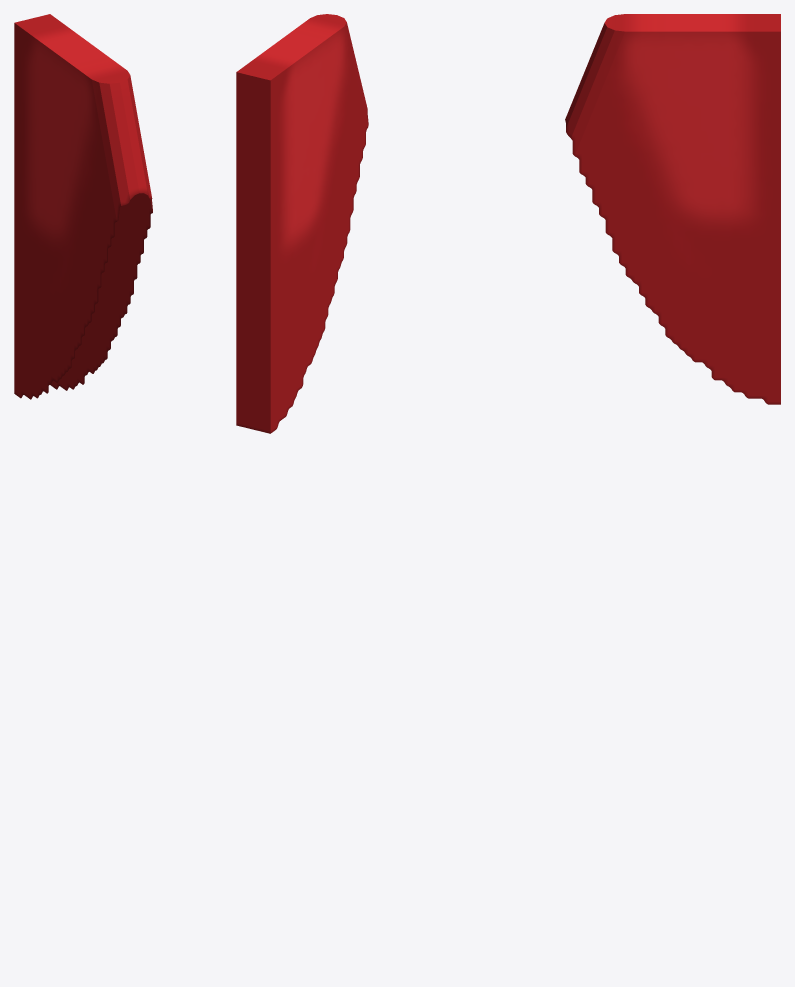
File: rudder.obj
3 renders of one model, left to right at view 1: azimuth 30°, elevation 25°; view 2: azimuth 150°, elevation 25°; view 3: azimuth 270°, elevation 25°, orthographic. The views are drawn at different scales.
Parts seen in each view (by area): view 1: Rudder; view 2: Rudder; view 3: Rudder.
Part boxes in pixels (x1=…): Rudder: x1=14, y1=14, x2=152, y2=399; Rudder: x1=236, y1=14, x2=368, y2=433; Rudder: x1=565, y1=14, x2=780, y2=404.
Size of the model in its own units: 0.0127 by 0.318 by 0.1013.
Materials: 1 (1 with a texture image).
